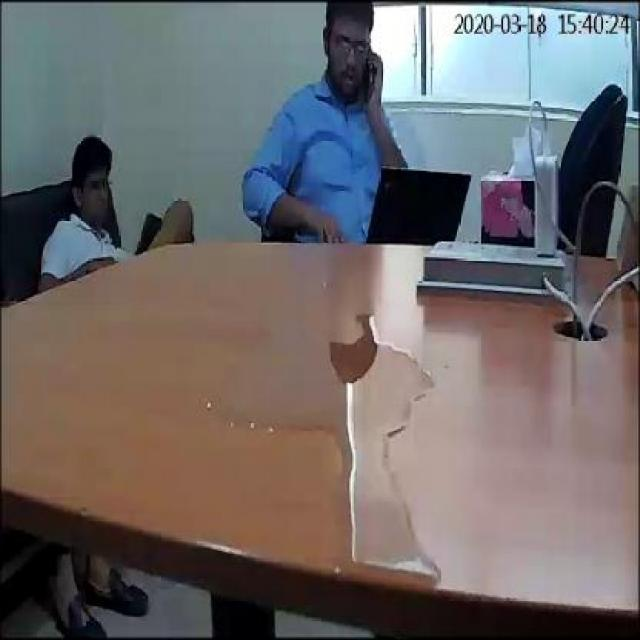spill: (197, 310, 434, 578)
